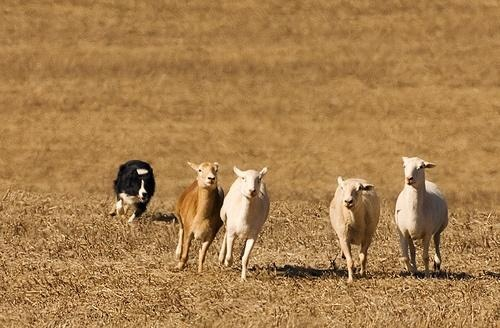dog: (113, 161, 157, 224)
sheep: (394, 158, 450, 276), (220, 167, 272, 280), (174, 162, 225, 276), (330, 177, 381, 284)
